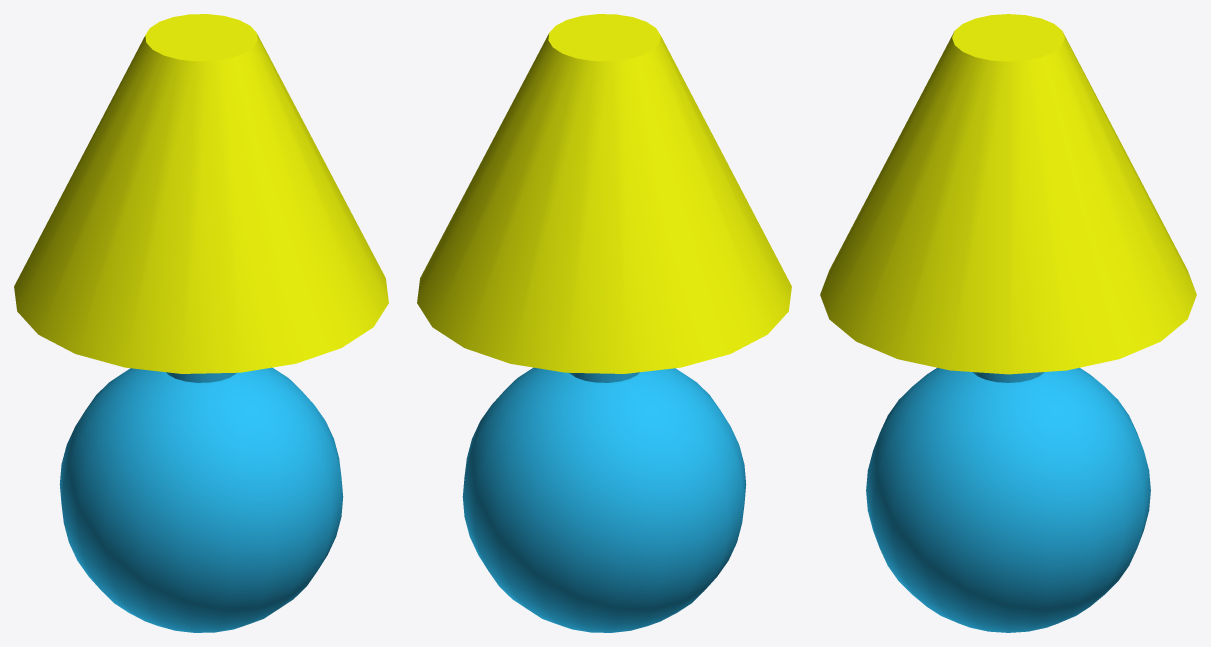
Rendered from Lamp.fbx.
The picture shows the model from 3 angles, left to right: view 1: azimuth 30°, elevation 25°; view 2: azimuth 150°, elevation 25°; view 3: azimuth 270°, elevation 25°; orthographic projection.
Visible parts, largest first — view 1: pSphere2; view 2: pSphere2; view 3: pSphere2.
Part boxes in pixels (box(x1,y1,x2,y2)): pSphere2: box(14, 14, 388, 632); pSphere2: box(417, 14, 791, 632); pSphere2: box(820, 14, 1196, 632).
Size of the model in its own units: 2.29 by 3.91 by 2.29.
